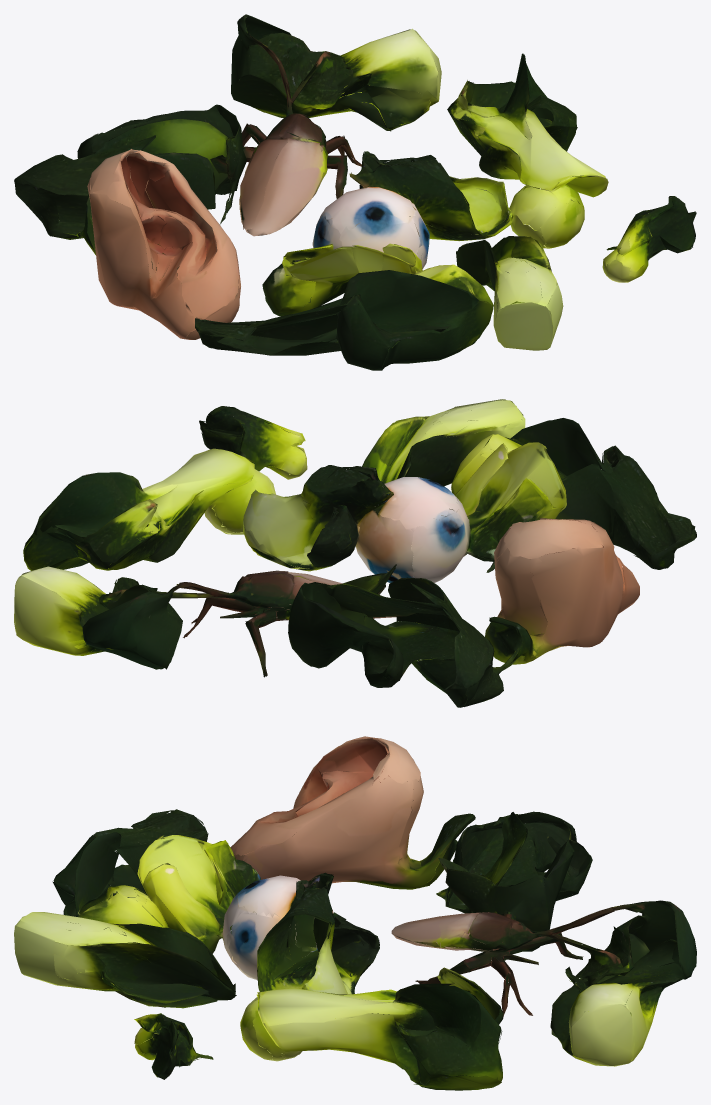
The picture shows the model from 3 angles, top to bottom: view 1: azimuth 30°, elevation 25°; view 2: azimuth 150°, elevation 25°; view 3: azimuth 270°, elevation 25°; orthographic projection.
Parts seen in each view (by area): view 1: material.002; view 2: material.002; view 3: material.002.
Part boxes in pixels (box(x1,y1,x2,y2)): material.002: box(14, 14, 696, 370); material.002: box(14, 399, 696, 707); material.002: box(14, 736, 696, 1090).
Bounding box in the file's own units: 100 × 27.08 × 115.
Materials: 1 (1 with a texture image).
